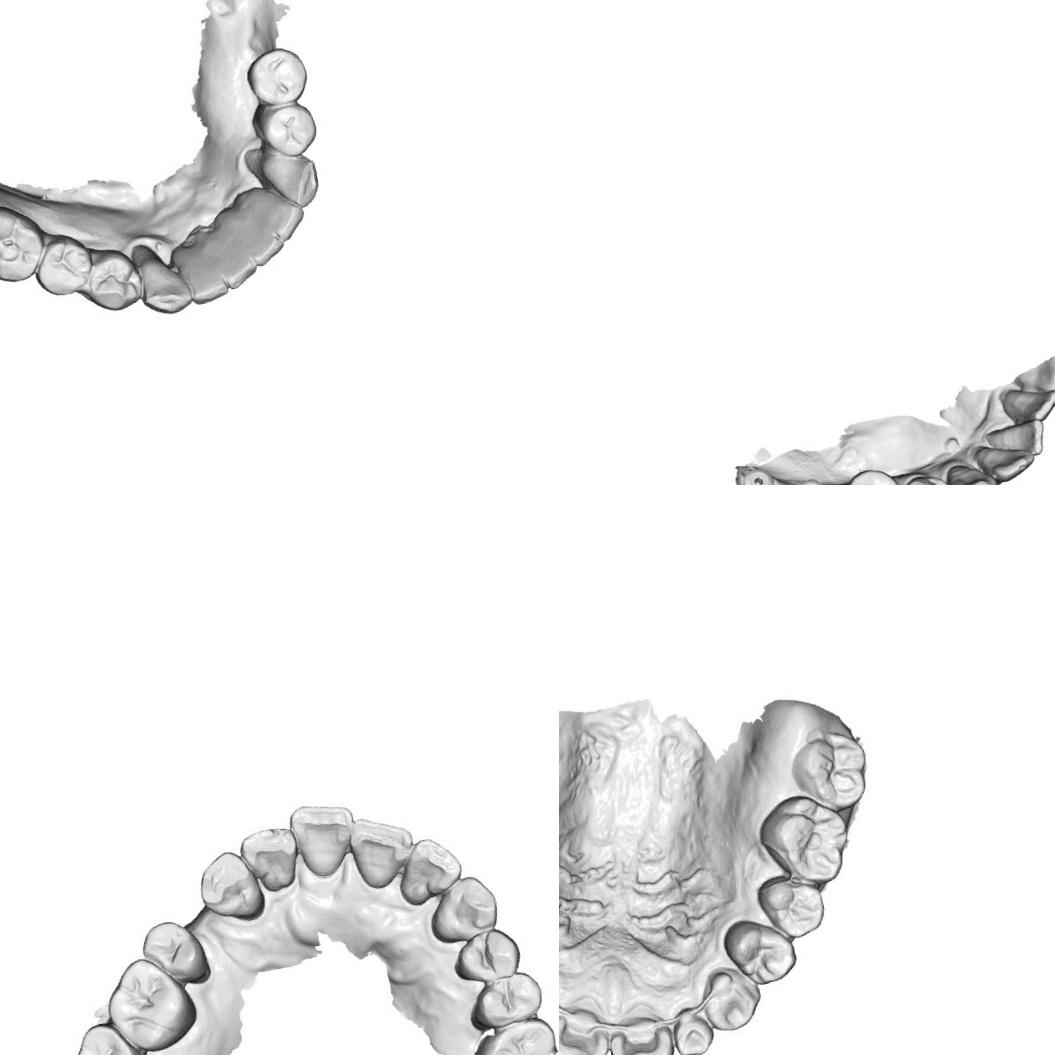canine: (420, 868, 506, 948), (192, 846, 266, 929), (694, 957, 768, 1037), (254, 144, 326, 215), (132, 248, 196, 322), (943, 455, 1002, 485)
implant: (735, 462, 779, 485), (787, 473, 832, 485)
incisor: (282, 793, 364, 883), (342, 809, 420, 894), (235, 820, 304, 898), (392, 828, 461, 900), (599, 998, 677, 1055), (970, 435, 1039, 485), (981, 416, 1049, 465), (996, 379, 1055, 429), (559, 1003, 612, 1055), (669, 1004, 717, 1055), (260, 191, 306, 242), (1007, 352, 1055, 400), (215, 240, 264, 286), (182, 267, 232, 306), (246, 220, 286, 266)
molar: (751, 784, 858, 894), (96, 947, 202, 1055), (782, 723, 876, 818), (0, 197, 52, 291), (470, 1014, 559, 1055), (63, 1016, 153, 1055)
premolar: (716, 908, 802, 993), (750, 865, 831, 946), (462, 966, 547, 1034), (140, 914, 212, 986), (448, 922, 528, 986), (28, 230, 98, 303), (241, 40, 313, 110), (78, 243, 146, 316), (249, 94, 322, 162), (834, 461, 908, 485), (896, 468, 957, 485)
